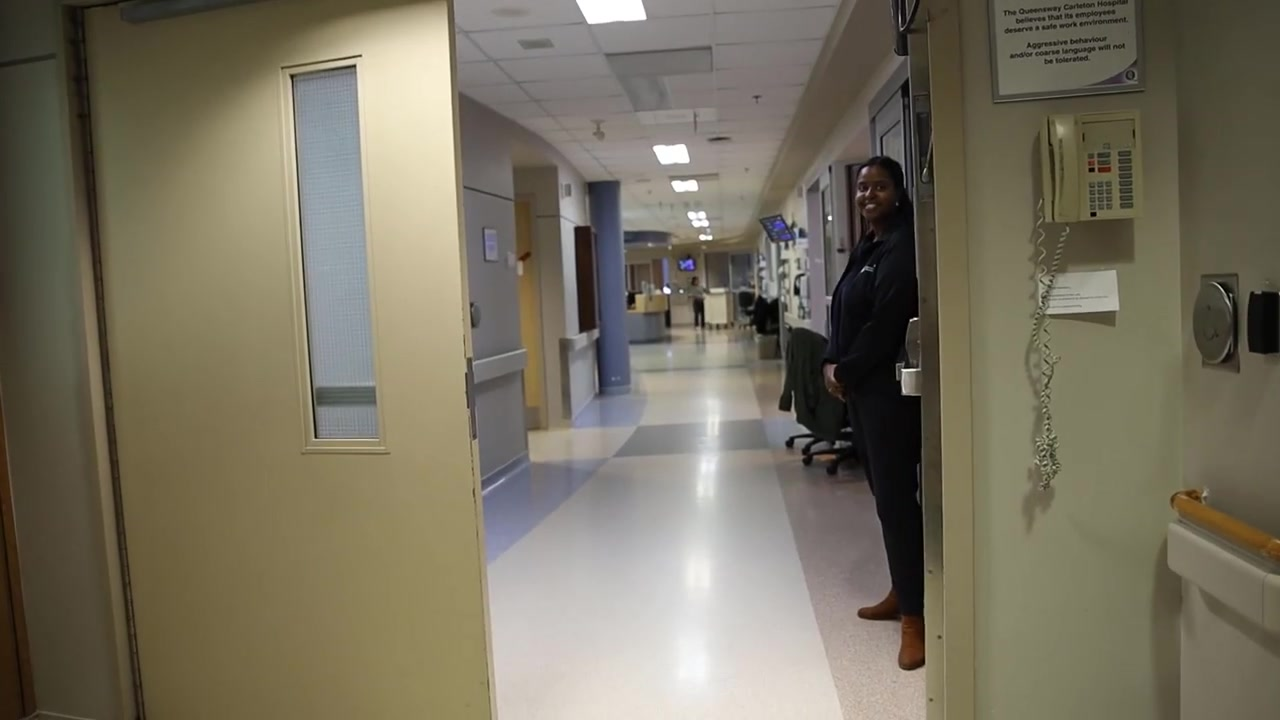TV: (758, 214, 795, 244)
chair: (779, 328, 856, 475), (739, 291, 757, 330)
counter: (629, 294, 668, 344)
hallway_assist_bar: (1153, 489, 1280, 633), (467, 346, 529, 384), (560, 329, 599, 353)
person: (690, 276, 708, 331)
press_to_open: (1192, 280, 1241, 367)
staff: (826, 157, 925, 672)
telephone: (1031, 114, 1145, 491)
waste_bin: (753, 333, 778, 361)
